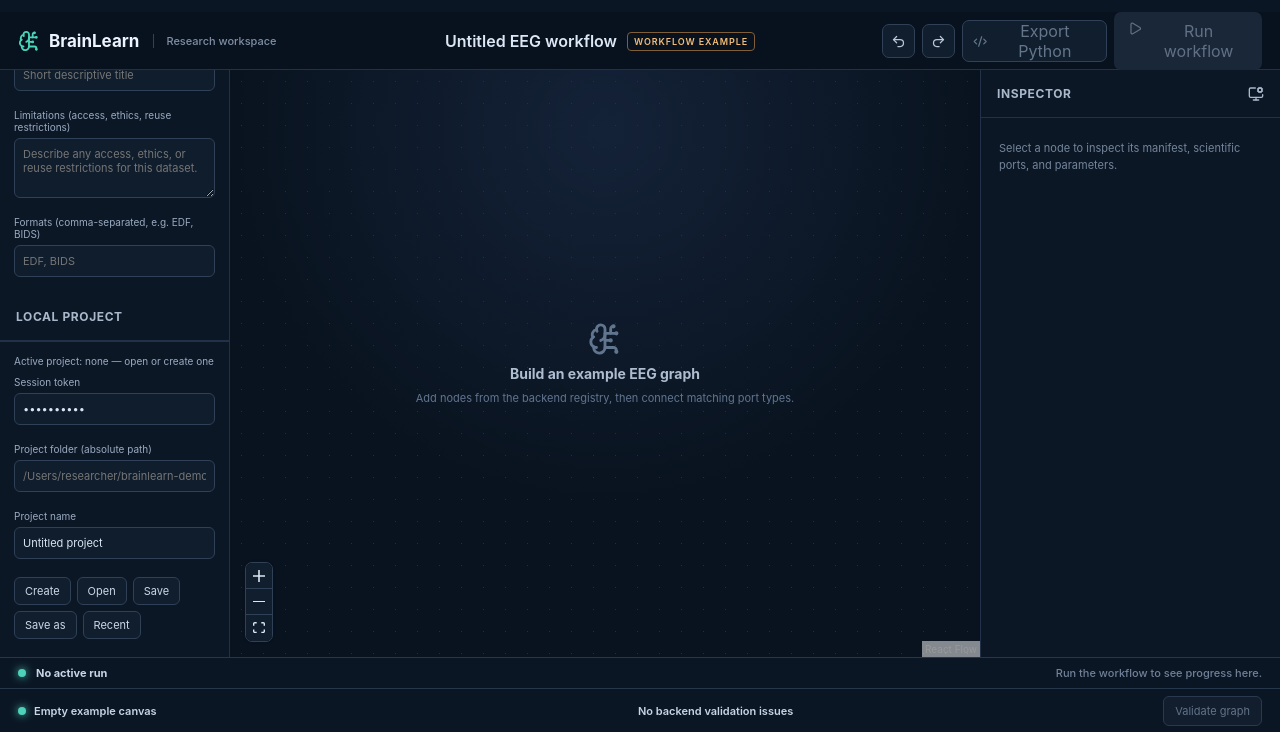
Test: a second run subscribes from its own cursor and renders early events
(page scrolled)
Type "/tmp/run-project" into the field labelled "Project folder" at (114, 476), box [14,460,215,492]
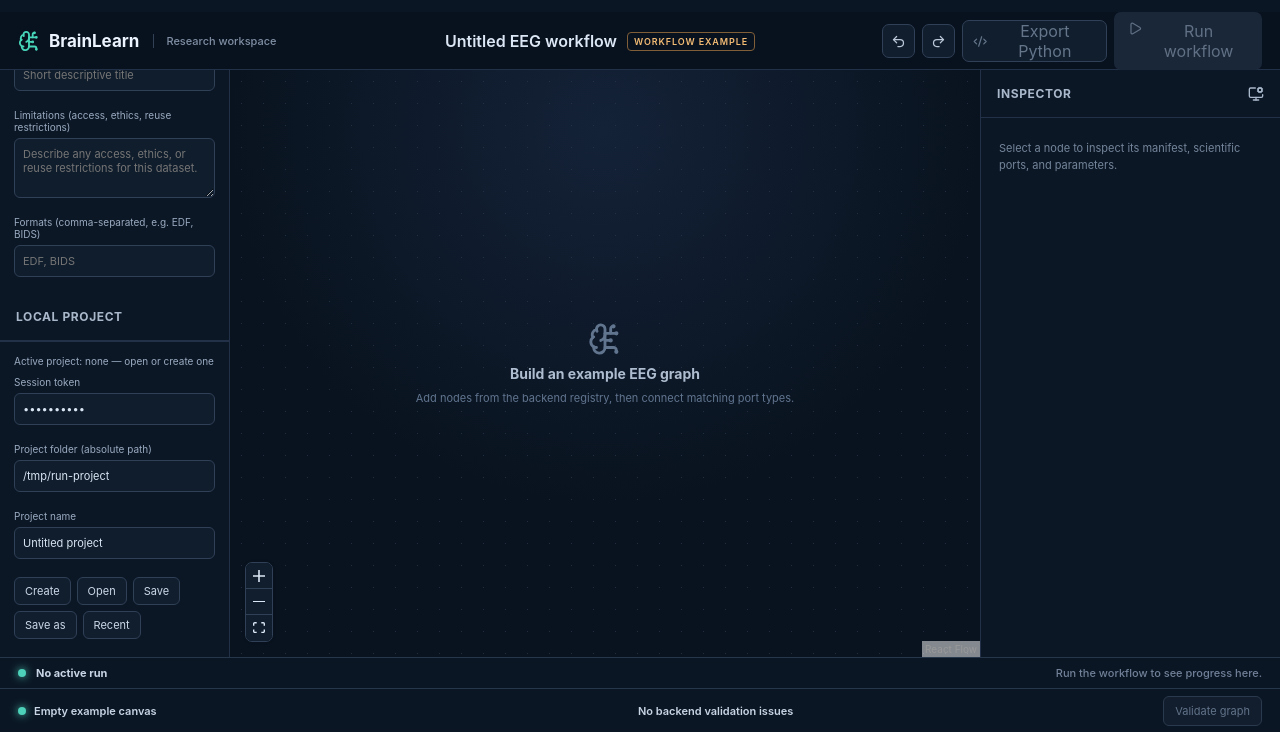
Click the button "Open" at (102, 591), box [77,577,127,605]
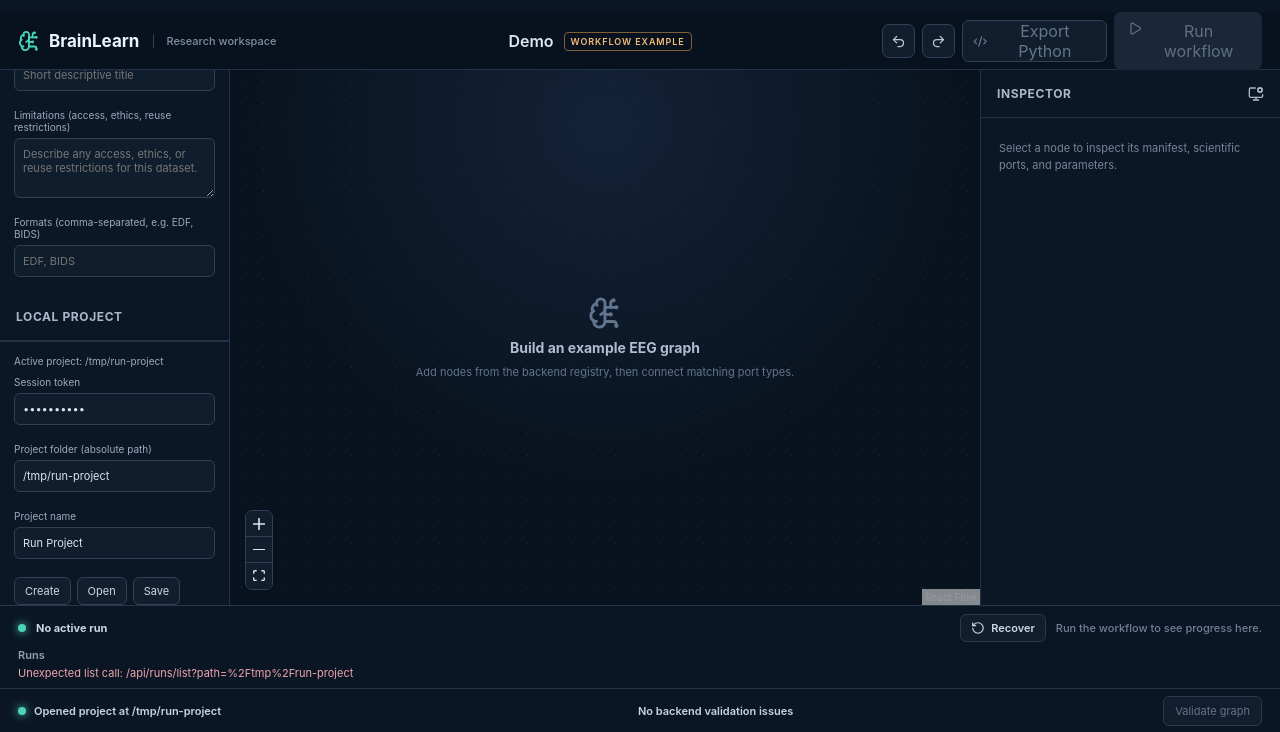
expect the text "Active project: /tmp/run-project" is shown: met, box [14,355,164,367]
Click the button "Run workflow" at (1188, 41), box [1114,12,1262,70]
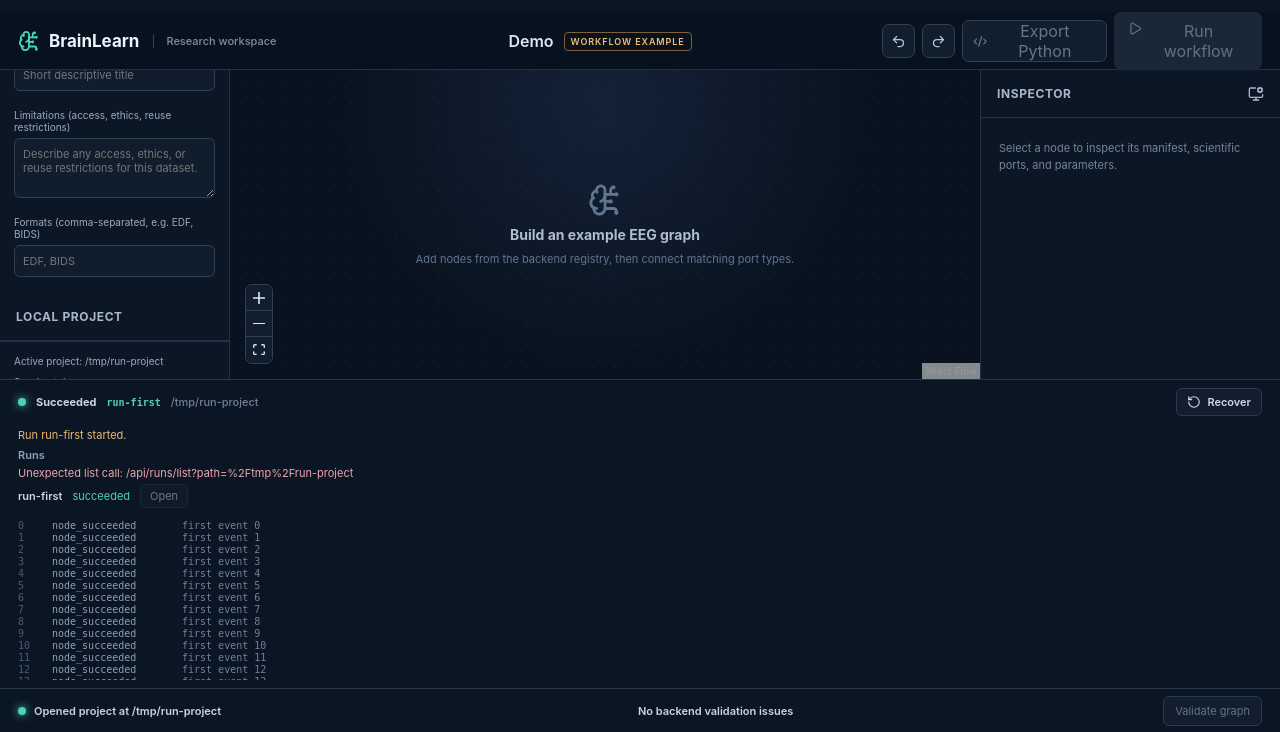
expect the text "run-first" is shown 2 times: met, box [106,396,161,408]; [18,489,62,503]
Click the button "Run workflow" at (1188, 41), box [1114,12,1262,70]
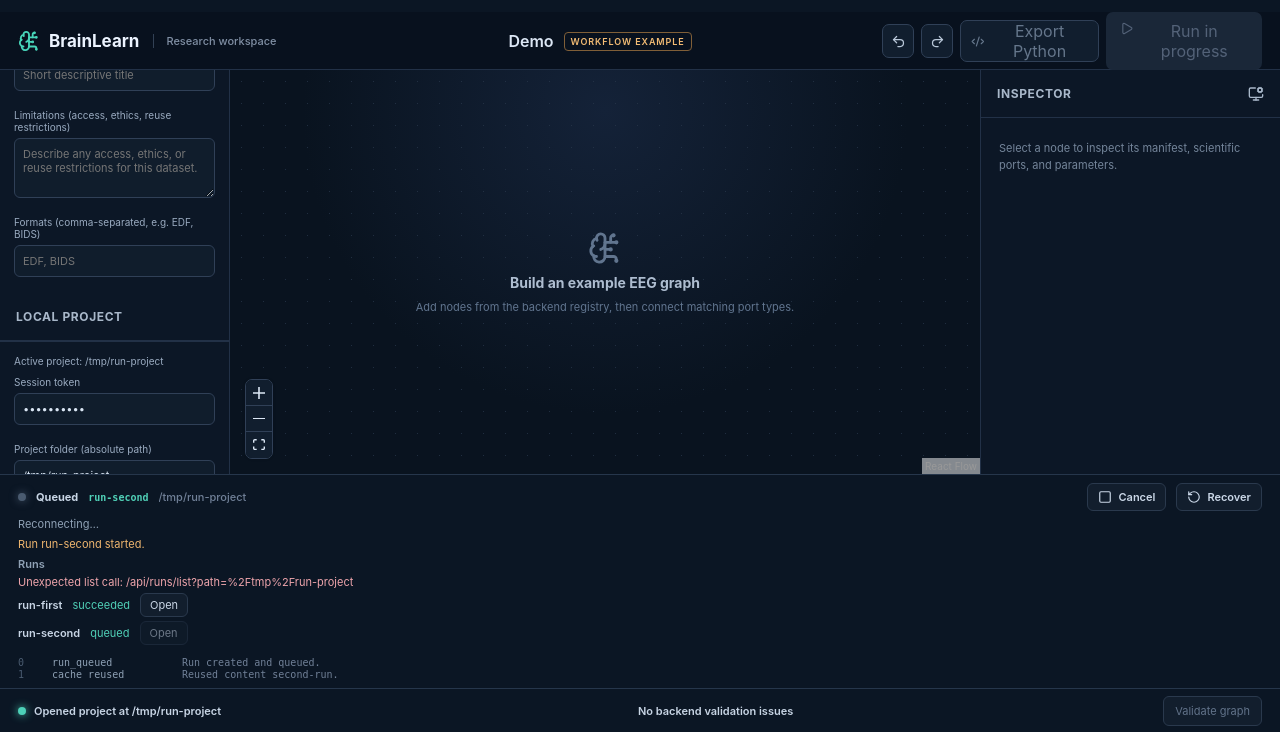
expect the text "run-second" is shown 2 times: met, box [88,492,148,502]; [18,626,80,640]
expect the text "Reused content second-run." is shown: met, box [182,669,338,680]
